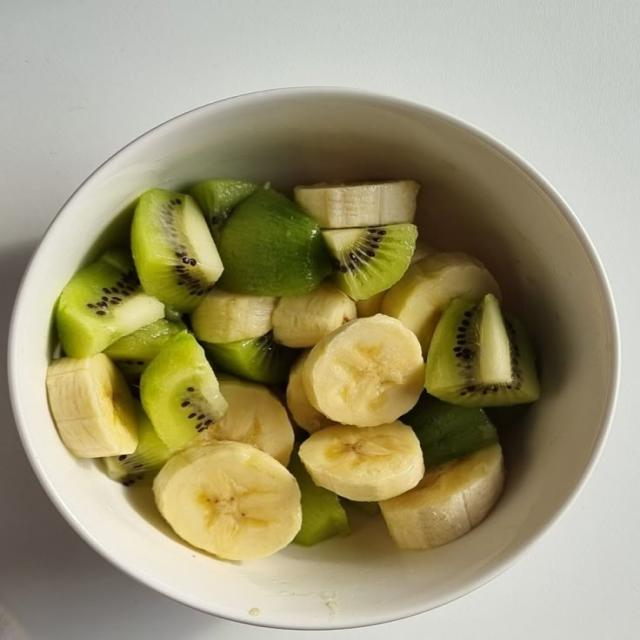banana slice: (154, 441, 301, 560), (303, 315, 424, 426), (380, 444, 504, 549), (381, 253, 499, 357), (300, 422, 424, 501), (47, 354, 137, 457), (200, 378, 293, 465), (294, 180, 419, 228), (273, 283, 356, 348), (191, 288, 276, 343), (287, 352, 333, 433), (356, 291, 386, 318), (356, 291, 386, 317), (411, 239, 436, 265)
kiwi: (425, 294, 539, 407), (216, 187, 331, 296), (56, 248, 163, 357), (131, 189, 223, 312), (140, 331, 227, 450), (323, 224, 417, 300), (289, 450, 350, 546), (103, 404, 171, 485), (104, 318, 185, 385), (201, 331, 298, 384), (190, 179, 262, 241)
